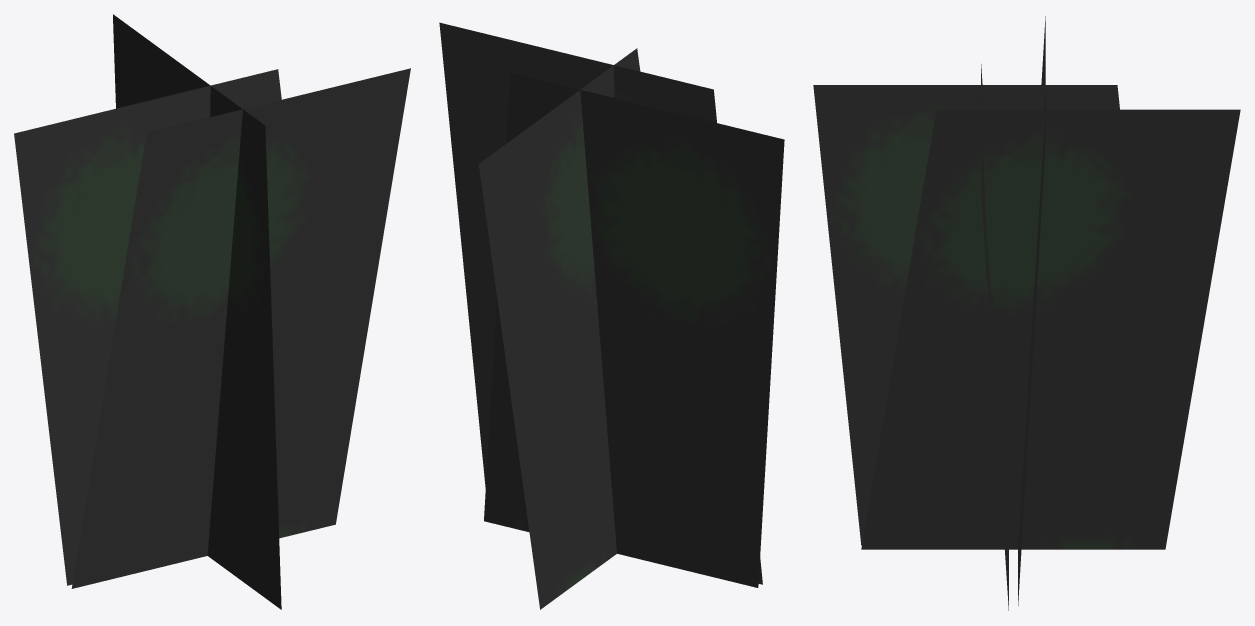
The model's file is GrassBranches2.fbx.
3 renders of one model, left to right at view 1: azimuth 30°, elevation 25°; view 2: azimuth 150°, elevation 25°; view 3: azimuth 270°, elevation 25°, orthographic. The views are drawn at different scales.
Visible parts, largest first — view 1: GrassBranches2; view 2: GrassBranches2; view 3: GrassBranches2.
Boxes of the visible parts, x1,y1,x2,y2 form: GrassBranches2: [14, 14, 410, 609]; GrassBranches2: [439, 22, 784, 609]; GrassBranches2: [813, 16, 1240, 610].
Bounding box in the file's own units: 0.4702 × 0.4786 × 0.5565.
